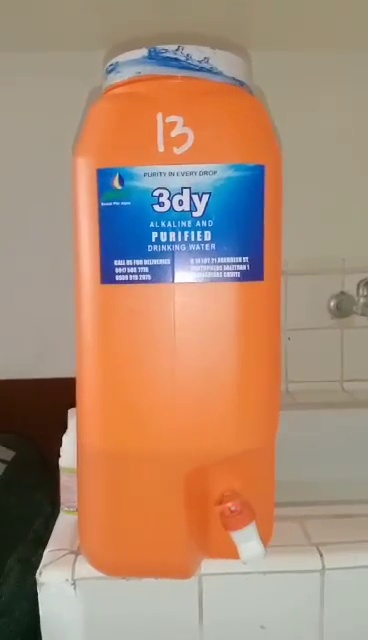gallon: (73, 40, 287, 583)
